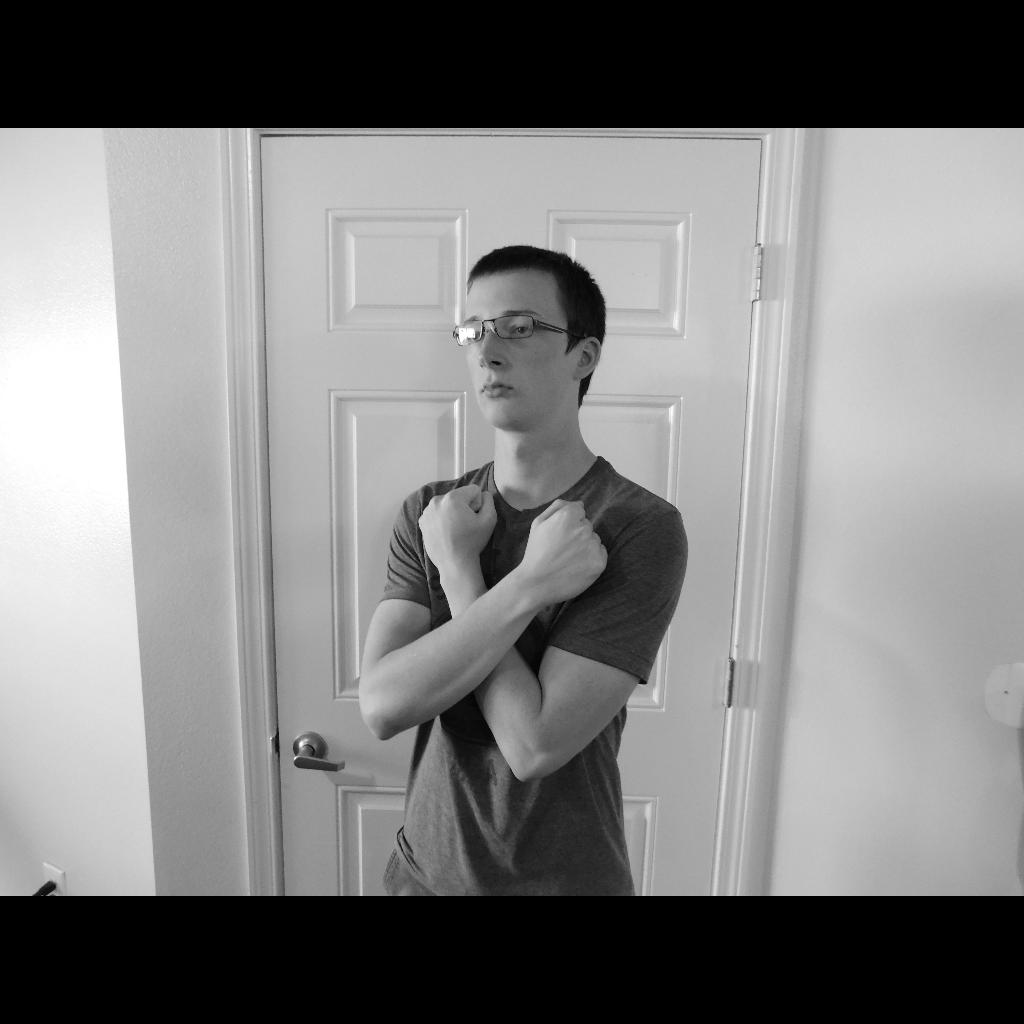love: (420, 484, 608, 606)
